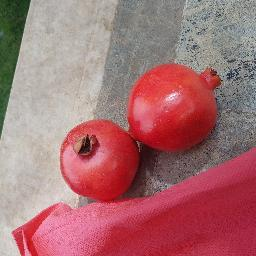Good_pomegranate: (125, 52, 229, 155), (57, 118, 140, 201)
